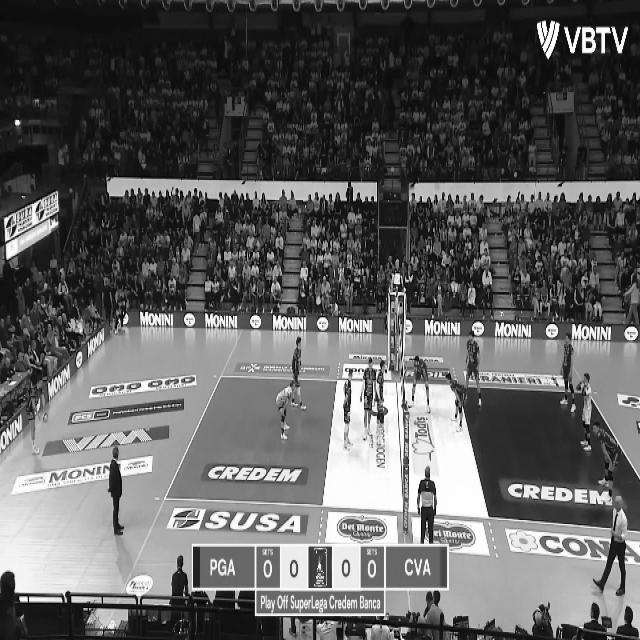volleyball court: (164, 380, 638, 529), (449, 376, 638, 531)
